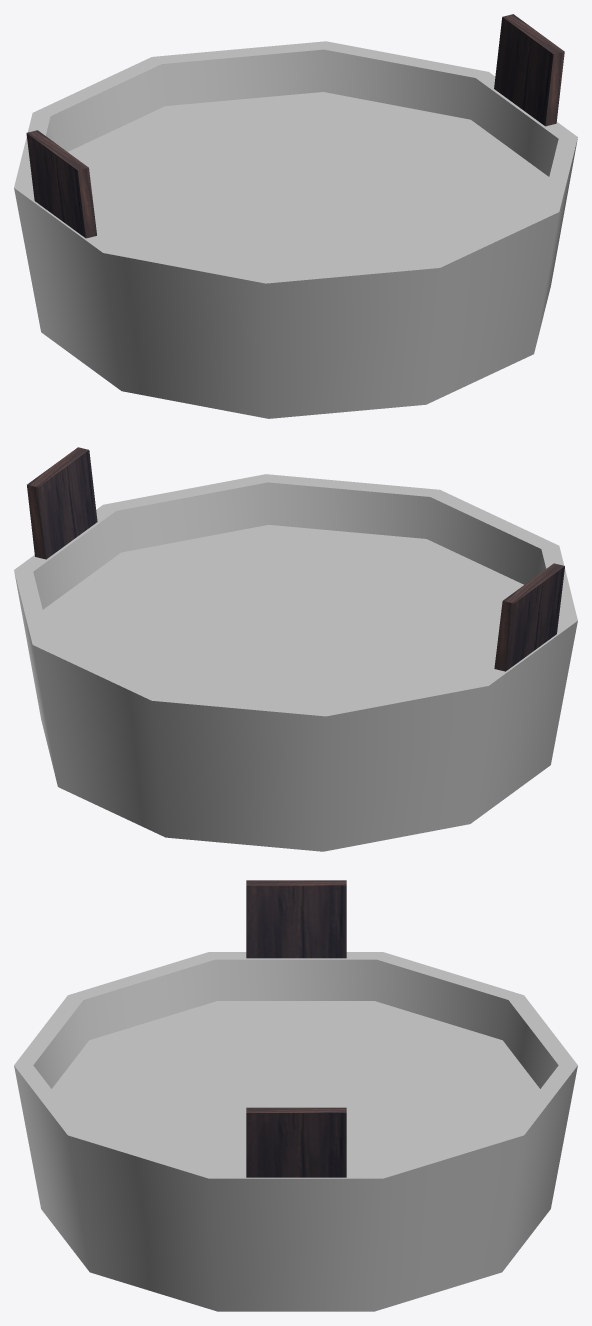
File: Bucket_B.fbx
The picture shows the model from 3 angles, top to bottom: view 1: azimuth 30°, elevation 25°; view 2: azimuth 150°, elevation 25°; view 3: azimuth 270°, elevation 25°; orthographic projection. The views are drawn at different scales.
Parts seen in each view (by area): view 1: Bucket_B; view 2: Bucket_B; view 3: Bucket_B.
Part boxes in pixels (box(x1,y1,x2,y2)): Bucket_B: box(14, 14, 577, 418); Bucket_B: box(14, 447, 577, 851); Bucket_B: box(14, 880, 577, 1311).
Bounding box in the file's own units: 0.5347 × 0.2277 × 0.5482.
